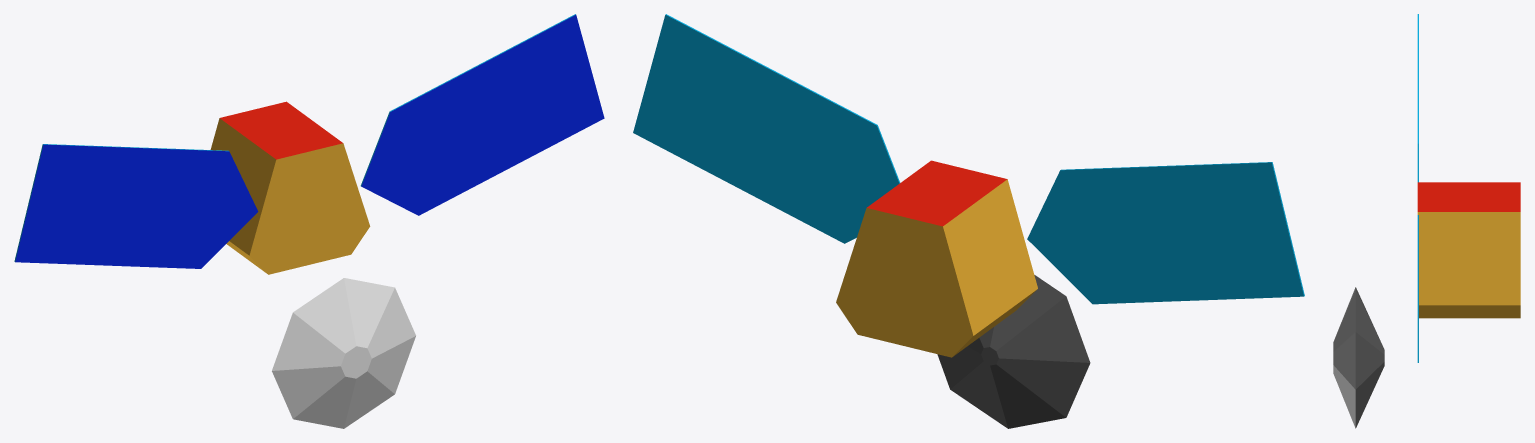
Rendered from MRO_lowfidelity.dae.
3 renders of one model, left to right at view 1: azimuth 30°, elevation 25°; view 2: azimuth 150°, elevation 25°; view 3: azimuth 270°, elevation 25°, orthographic. The views are drawn at different scales.
Parts seen in each view (by area): view 1: MRO_lowfidelity; view 2: MRO_lowfidelity; view 3: MRO_lowfidelity.
Part boxes in pixels (<box>): MRO_lowfidelity: <box>14,14,604,428</box>; MRO_lowfidelity: <box>633,14,1304,428</box>; MRO_lowfidelity: <box>1333,14,1520,428</box>.
Size of the model in its own units: 519 by 157 by 273.
